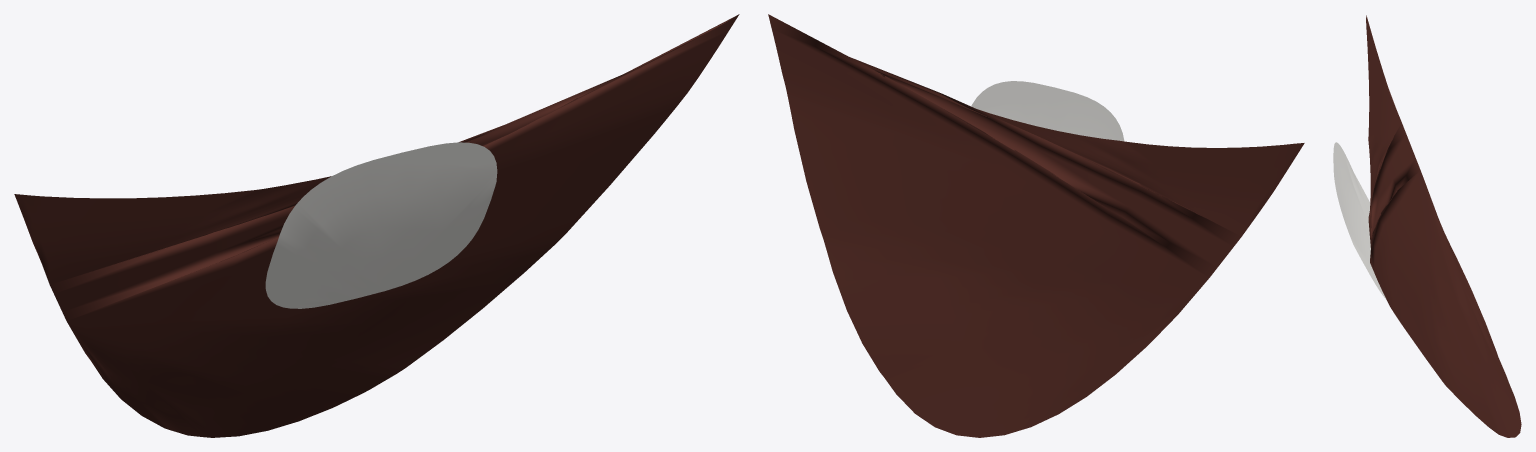
The model's file is mouth_tooth.glb.
3 renders of one model, left to right at view 1: azimuth 30°, elevation 25°; view 2: azimuth 150°, elevation 25°; view 3: azimuth 270°, elevation 25°, orthographic. The views are drawn at different scales.
Visible parts, largest first — view 1: Cat_mouth_tooth.001; view 2: Cat_mouth_tooth.001; view 3: Cat_mouth_tooth.001.
Part boxes in pixels (x1,y1,x2,y2): Cat_mouth_tooth.001: (14, 14, 739, 437); Cat_mouth_tooth.001: (768, 14, 1304, 437); Cat_mouth_tooth.001: (1333, 15, 1521, 437).
Bounding box in the file's own units: 0.03 × 0.016 × 0.00955.
